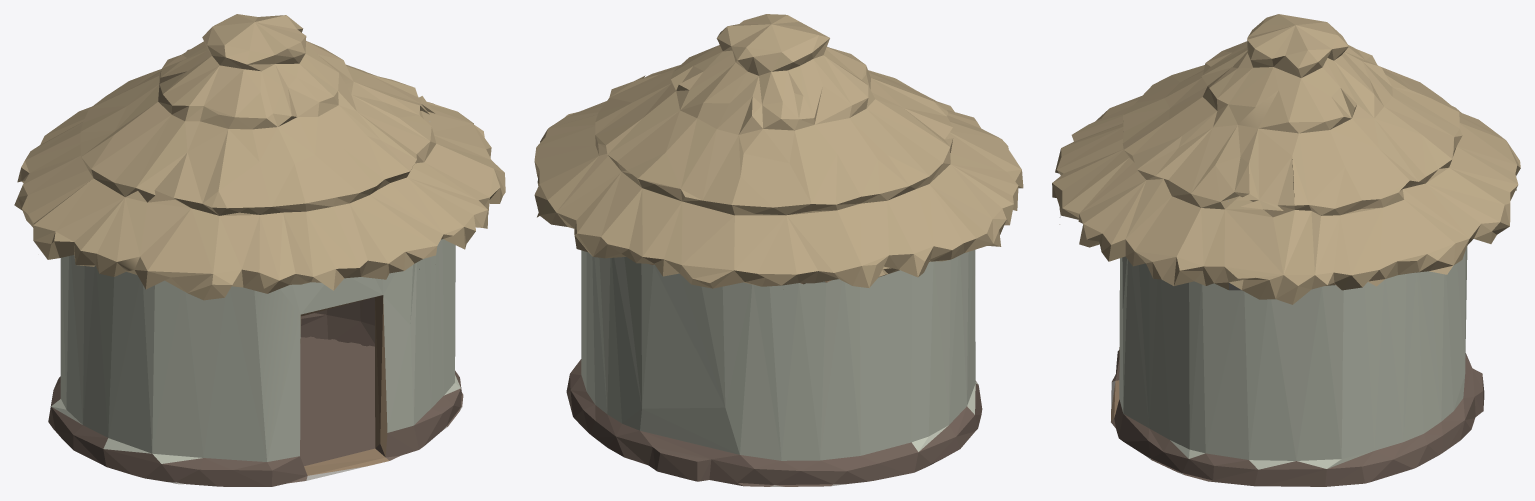
3 renders of one model, left to right at view 1: azimuth 30°, elevation 25°; view 2: azimuth 150°, elevation 25°; view 3: azimuth 270°, elevation 25°, orthographic.
Visible parts, largest first — view 1: geometry_0; view 2: geometry_0; view 3: geometry_0.
Boxes of the visible parts, x1,y1,x2,y2 form: geometry_0: (14, 14, 505, 486); geometry_0: (534, 14, 1023, 486); geometry_0: (1052, 14, 1520, 486).
Size of the model in its own units: 0.8882 by 0.7304 by 0.8232.
